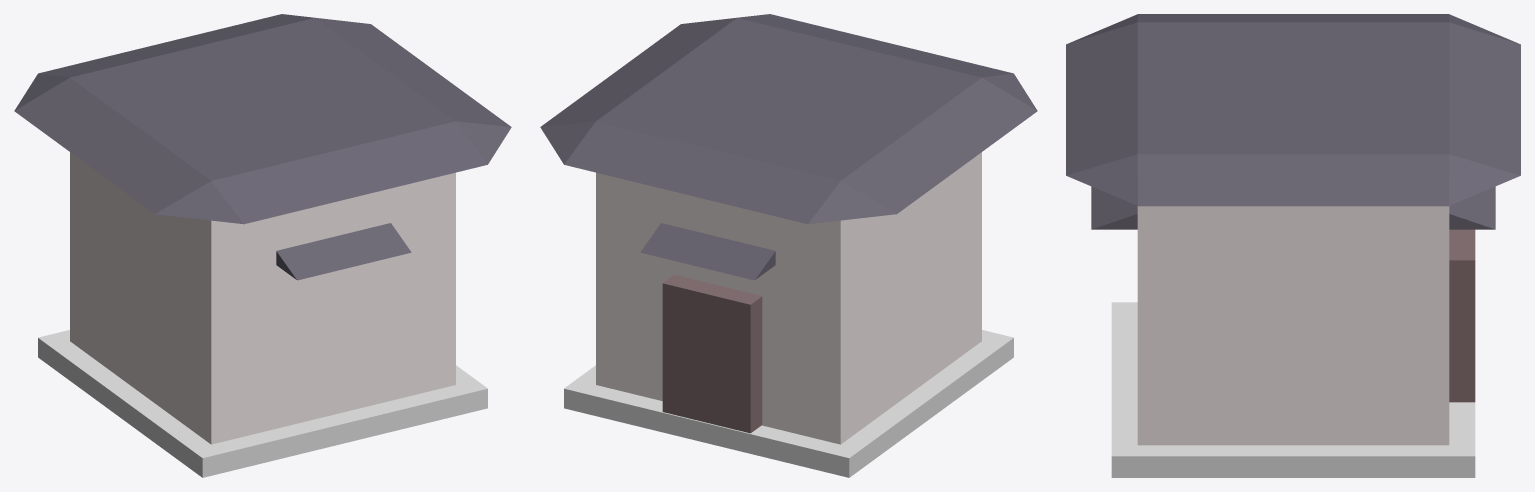
File: A2-gnd--room-door-yp.fbx
3 renders of one model, left to right at view 1: azimuth 30°, elevation 25°; view 2: azimuth 150°, elevation 25°; view 3: azimuth 270°, elevation 25°, orthographic. The views are drawn at different scales.
Visible parts, largest first — view 1: Room.005, Foundation.003, Room-separator.001, Foundation.001; view 2: Foundation.003, Room.005, Room-separator.001, Room.006, Foundation.001; view 3: Foundation.003, Room.005, Room-separator.001, Room.006, Foundation.001.
Boxes of the visible parts, x1,y1,x2,y2 form: Room.005: (70,152,455,444); Foundation.003: (14,14,511,224); Room-separator.001: (38,330,487,477); Foundation.001: (276,223,411,280); Foundation.003: (540,14,1037,224); Room.005: (596,152,981,444); Room-separator.001: (564,330,1013,477); Room.006: (662,275,762,433); Foundation.001: (640,223,775,280); Foundation.003: (1066,14,1520,206); Room.005: (1137,206,1449,445); Room-separator.001: (1111,302,1475,477); Room.006: (1449,229,1475,402); Foundation.001: (1091,186,1495,229).
Bounding box in the file's own units: 263 × 200 × 263.
